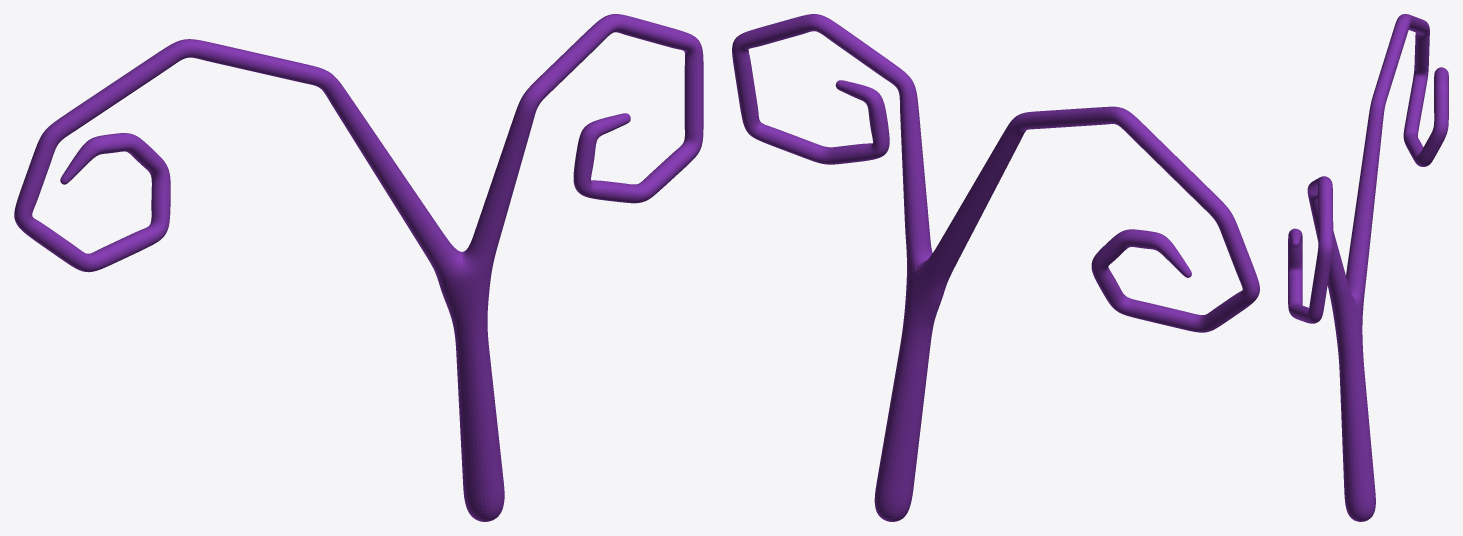
The model's file is weeds0.1.fbx.
3 views of the same model, side by side, from view 1: azimuth 30°, elevation 25°; view 2: azimuth 150°, elevation 25°; view 3: azimuth 270°, elevation 25° (orthographic). The views are drawn at different scales.
Visible parts, largest first — view 1: Plane; view 2: Plane; view 3: Plane.
Boxes of the visible parts, box(x1,y1,x2,y2) form: Plane: box(14, 14, 703, 521); Plane: box(732, 14, 1259, 521); Plane: box(1288, 14, 1448, 521).
Bounding box in the file's own units: 339 × 273 × 98.77.
